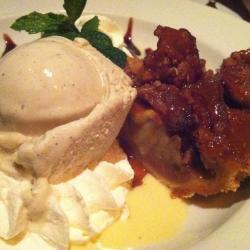apple_pie: (122, 23, 250, 200), (1, 37, 128, 183)
chantilly: (3, 153, 135, 246)
